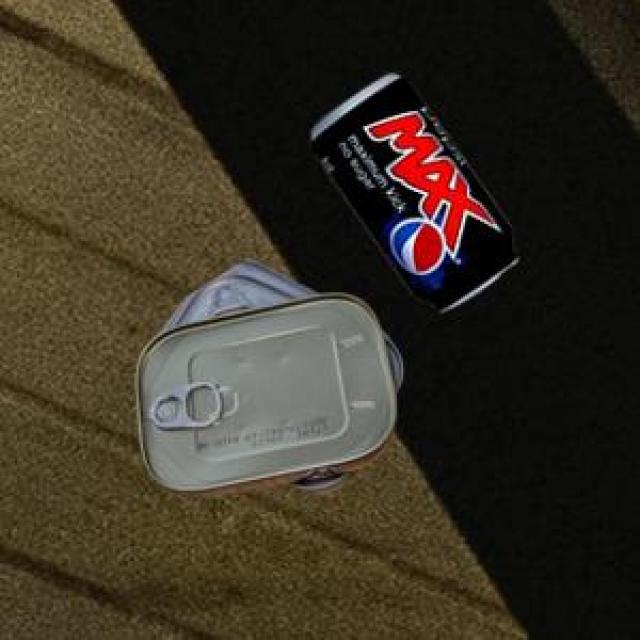logam: (133, 257, 400, 494), (308, 71, 513, 308)
